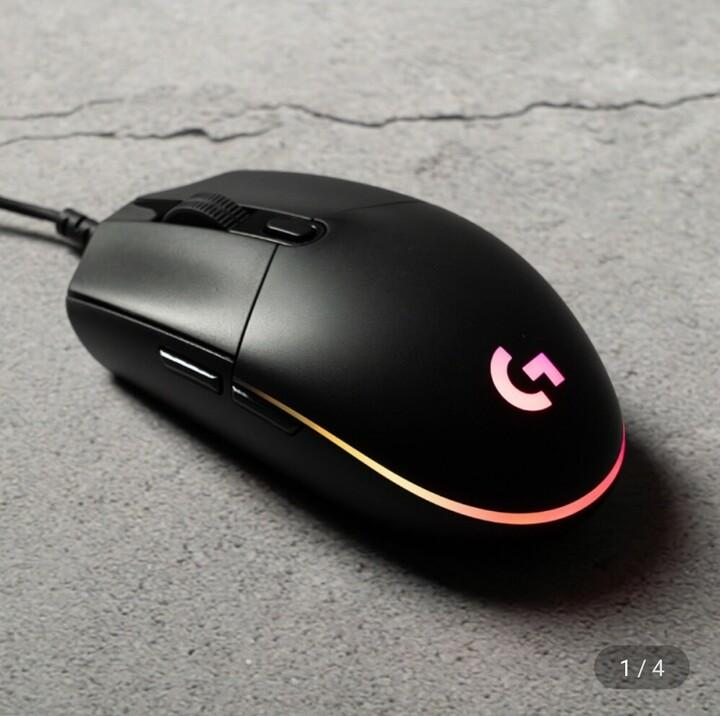mouse: (64, 166, 627, 547)
